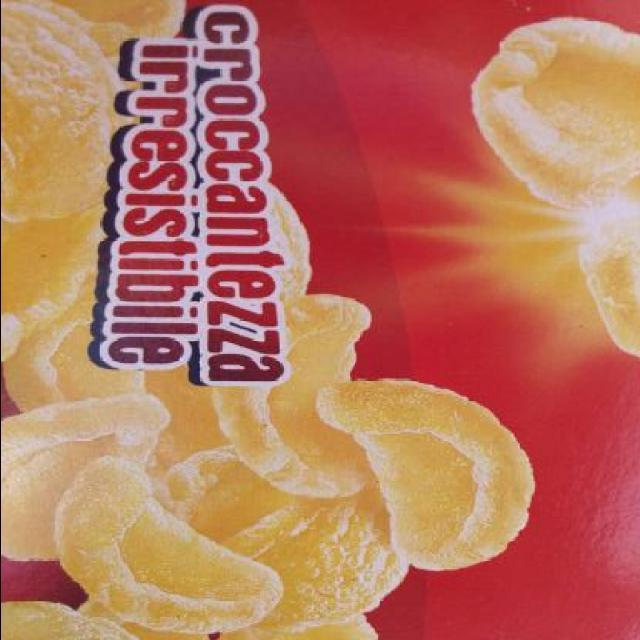Chips: (8, 3, 640, 634)
